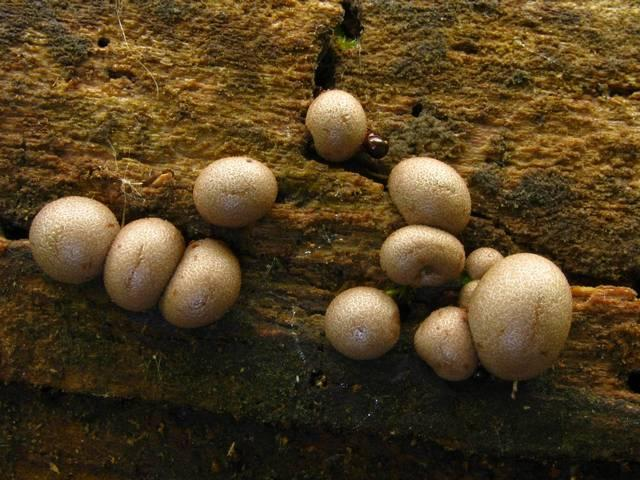Non-edible Mushroom: (323, 154, 573, 386), (466, 251, 573, 382), (27, 194, 119, 285), (102, 215, 184, 312), (158, 237, 242, 328), (386, 155, 472, 232), (191, 154, 278, 228), (323, 285, 400, 360), (378, 223, 465, 289), (412, 304, 477, 381), (304, 87, 367, 162), (457, 246, 503, 308)
